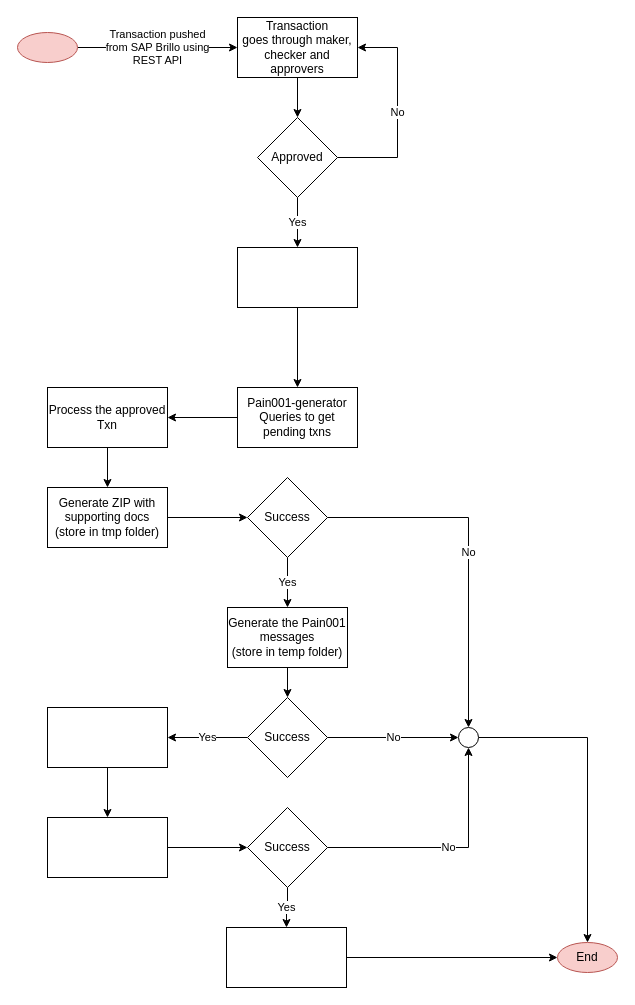
Some shapes in this 635 by 1005 pixel diagram are drawn without their labels. The shapes that lost their labels are listed below. From the top down, each one's centre as x and y in pixels, then its label:
(47,47): Start
(297,277): Mark as 1. Approved 2. Not Generated
(107,737): Move generated files to permanent directory
(107,847): Update the status of the transaction
(286,957): Place into SWIFT_DIR
